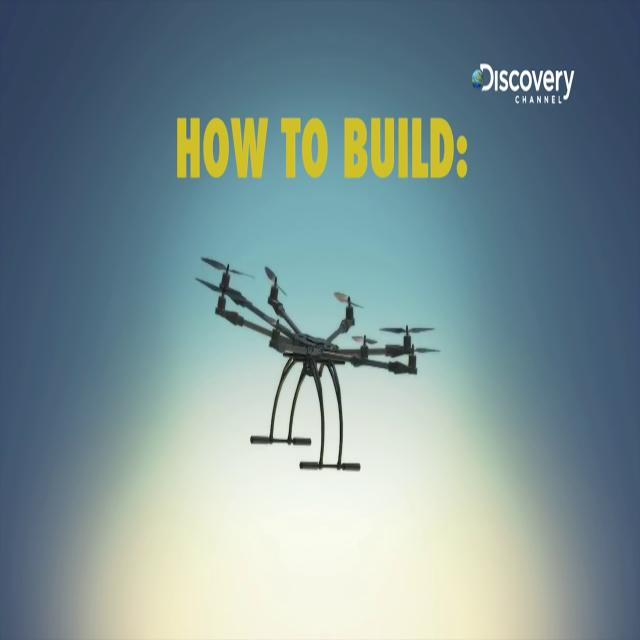drone: (200, 230, 446, 479)
